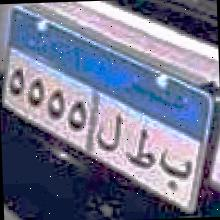5: (65, 98, 87, 134), (43, 89, 66, 123), (24, 74, 46, 108), (6, 68, 25, 99)
Taa: (125, 124, 156, 173)
baa: (156, 148, 194, 194)
laam: (94, 111, 122, 154)
